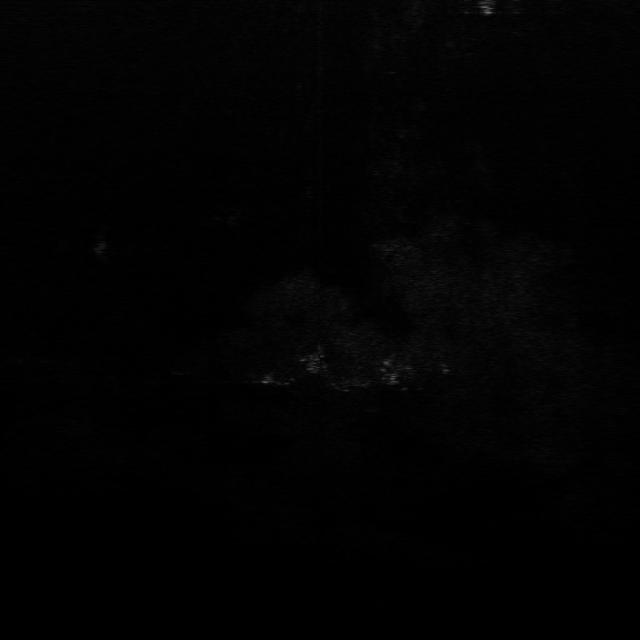rov: (478, 0, 499, 16)
